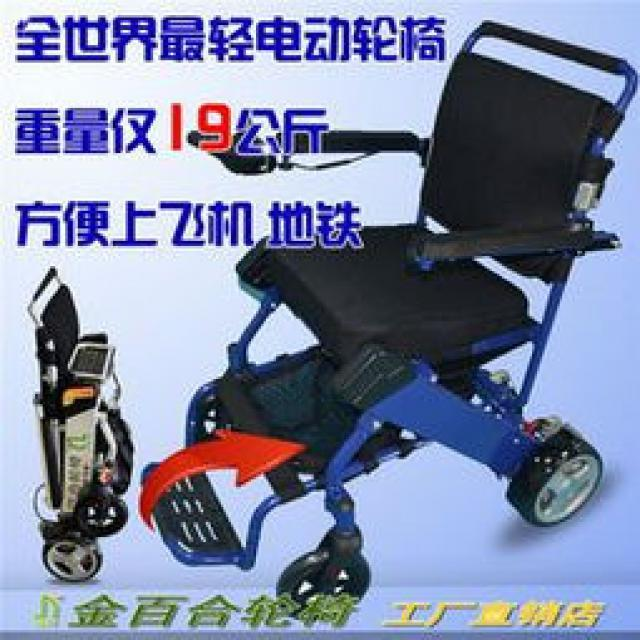wheelchair: (122, 22, 632, 610)
